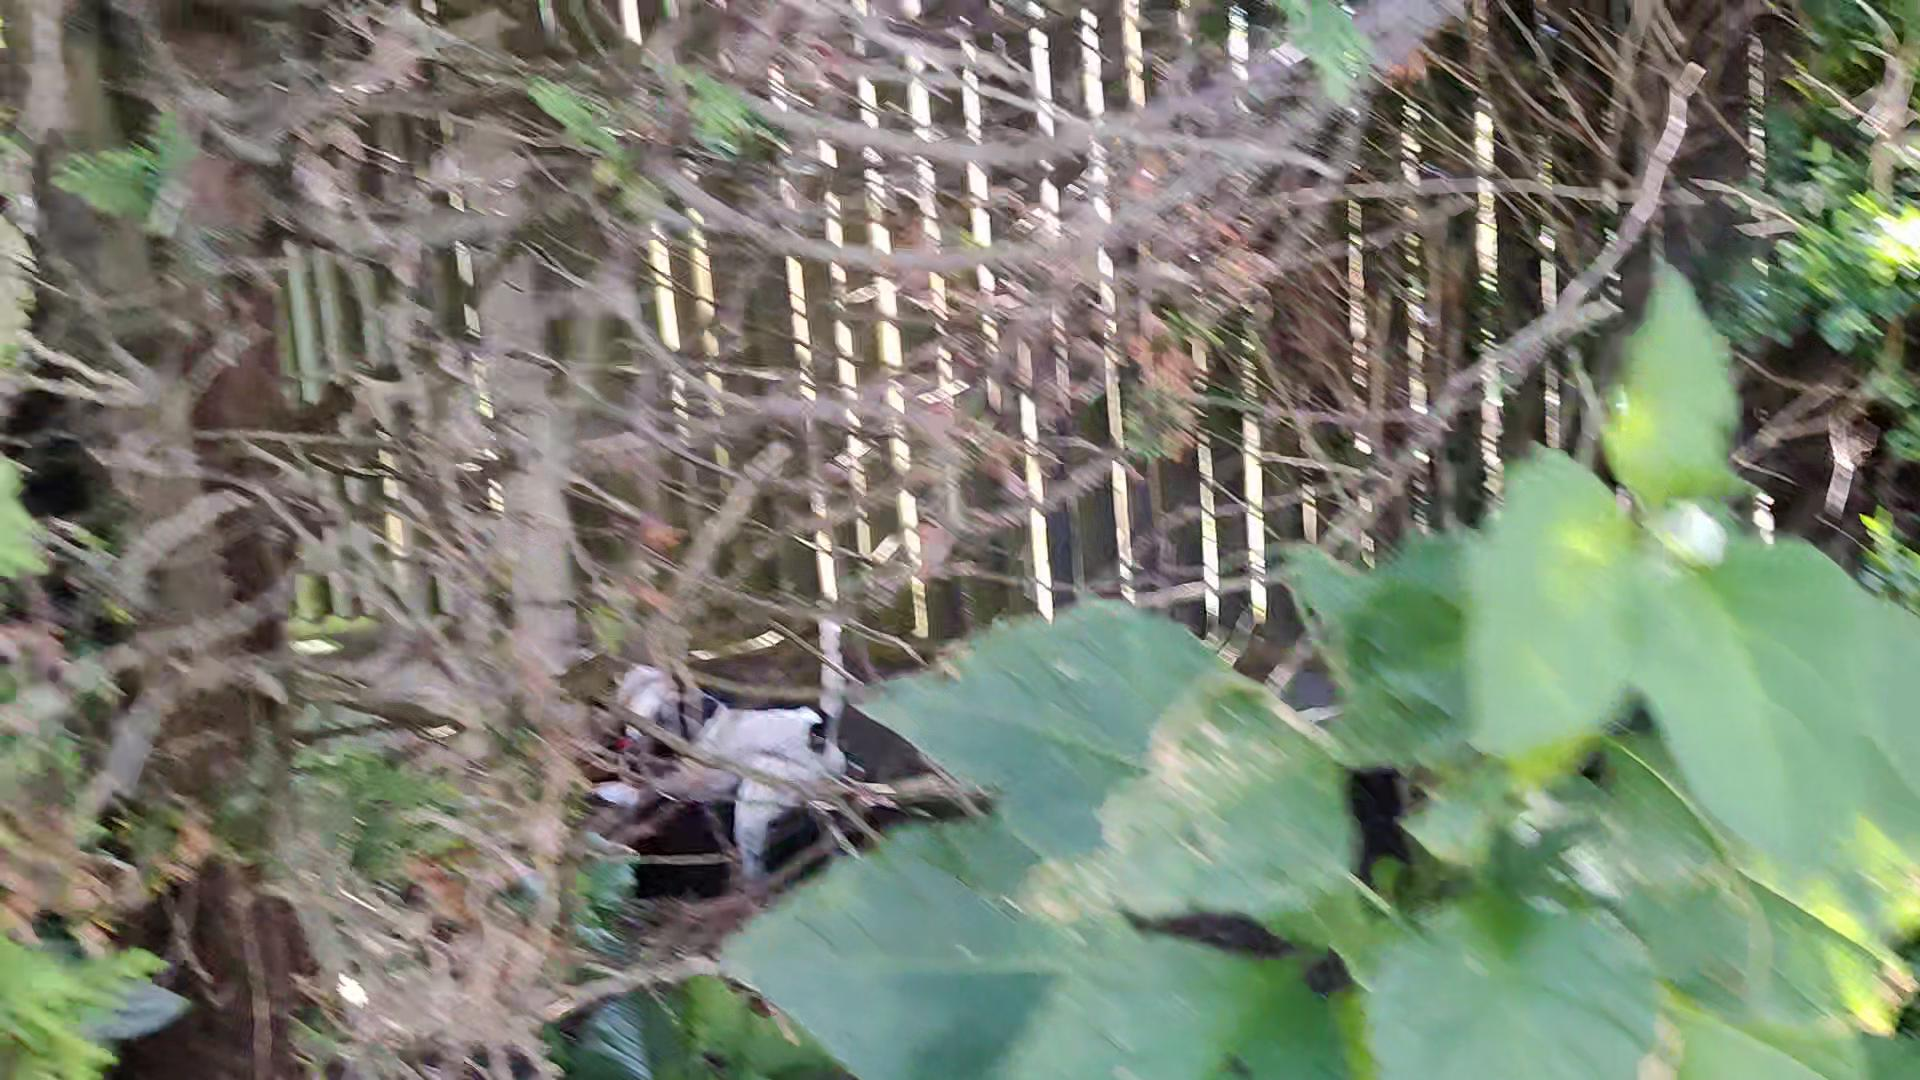Dog: (566, 585, 865, 901)
